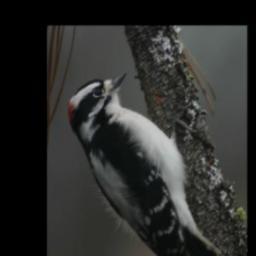Woodpecker: (67, 72, 236, 256)
